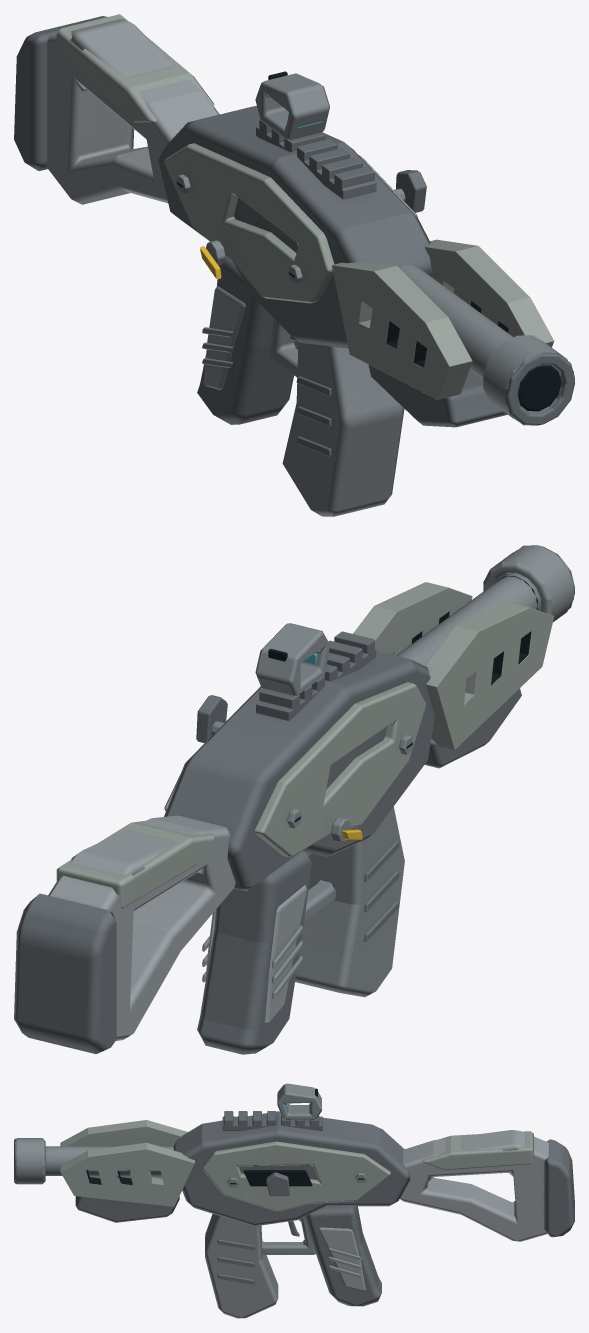
The model's file is rifle.glb.
3 views of the same model, one above another, from view 1: azimuth 30°, elevation 25°; view 2: azimuth 150°, elevation 25°; view 3: azimuth 270°, elevation 25° (orthographic). The views are drawn at different scales.
Parts seen in each view (by area): view 1: rifle-ka12-arsenal; view 2: rifle-ka12-arsenal; view 3: rifle-ka12-arsenal.
Part boxes in pixels (left/top/right/bottom): rifle-ka12-arsenal: left=14, top=14, right=574, bottom=516; rifle-ka12-arsenal: left=14, top=545, right=574, bottom=1054; rifle-ka12-arsenal: left=14, top=1083, right=574, bottom=1318.
Bounding box in the file's own units: 0.3435 × 0.7138 × 1.62.
1 material, 1 textured.
